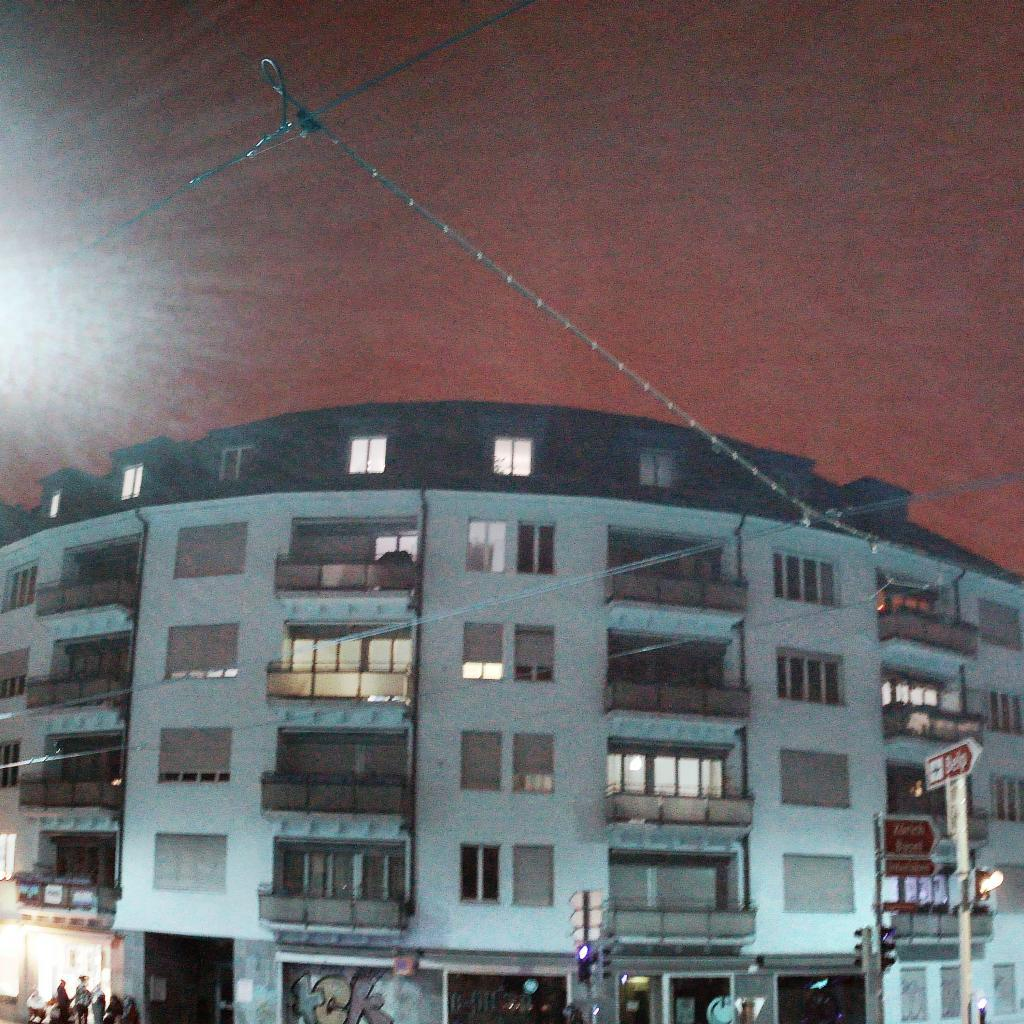balcony-fence: (603, 895, 757, 948), (260, 770, 412, 820), (266, 660, 416, 706), (257, 884, 408, 929), (274, 553, 419, 597), (602, 677, 749, 719), (605, 783, 752, 825), (608, 570, 747, 612), (34, 567, 137, 619), (878, 605, 978, 658), (26, 664, 127, 710), (883, 704, 983, 745), (891, 905, 992, 944), (20, 777, 122, 812), (17, 878, 115, 914), (888, 813, 988, 843)
facade: (0, 407, 1024, 967)
shop: (0, 924, 113, 1007), (448, 972, 568, 1024), (776, 975, 865, 1024), (670, 977, 732, 1024), (619, 975, 651, 1024)
traffic-infrastructure: (925, 735, 1007, 1024), (852, 810, 942, 1024), (566, 888, 607, 1024)
window: (272, 835, 406, 887), (609, 848, 739, 896), (609, 632, 724, 683), (277, 729, 407, 771), (608, 531, 722, 576), (608, 742, 725, 784), (291, 515, 419, 552), (153, 832, 227, 895), (288, 625, 410, 662), (888, 763, 973, 816), (172, 523, 249, 579), (782, 853, 854, 912), (166, 623, 241, 679), (781, 747, 849, 808), (158, 728, 233, 783), (776, 647, 842, 706), (773, 548, 837, 608), (895, 861, 975, 904), (882, 666, 941, 711), (876, 572, 939, 614), (60, 736, 122, 778), (460, 731, 503, 791), (513, 845, 554, 906), (514, 733, 555, 793), (463, 622, 504, 679), (55, 845, 114, 884), (979, 598, 1022, 651), (515, 624, 554, 682), (461, 843, 499, 902), (0, 559, 40, 615), (518, 520, 556, 575), (467, 521, 506, 573), (491, 436, 534, 477), (79, 546, 138, 574), (0, 646, 28, 703), (348, 435, 387, 474), (70, 647, 130, 669), (639, 451, 674, 488), (220, 444, 253, 480), (0, 738, 22, 789), (121, 462, 144, 500), (0, 832, 17, 881), (49, 490, 61, 518)
